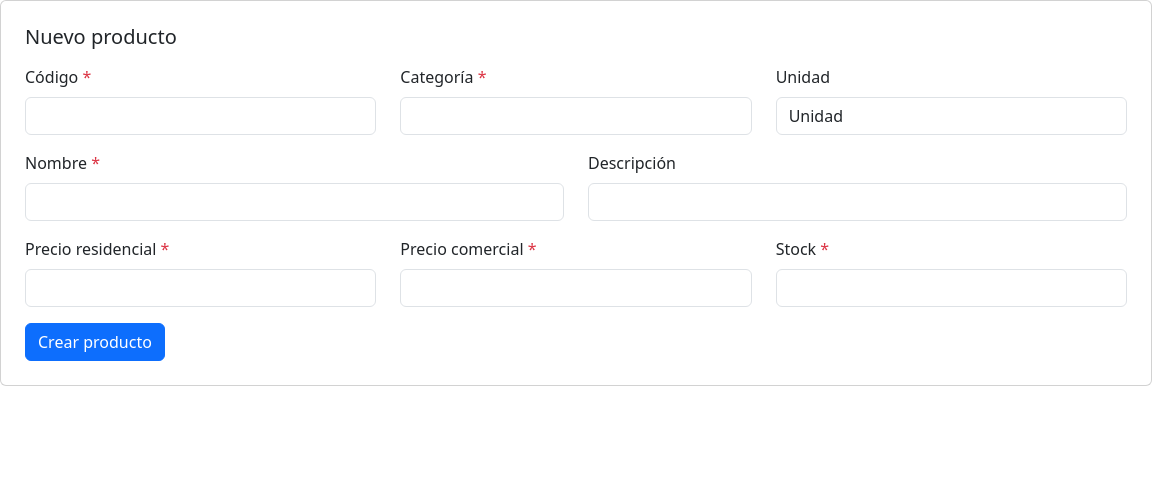
FormularioProducto › valida los campos obligatorios antes de crear un producto nuevo
Check: the heading "Nuevo producto" is shown, box [25, 23, 177, 50]
Click the button "Crear producto" at [95, 342], box [25, 323, 165, 361]
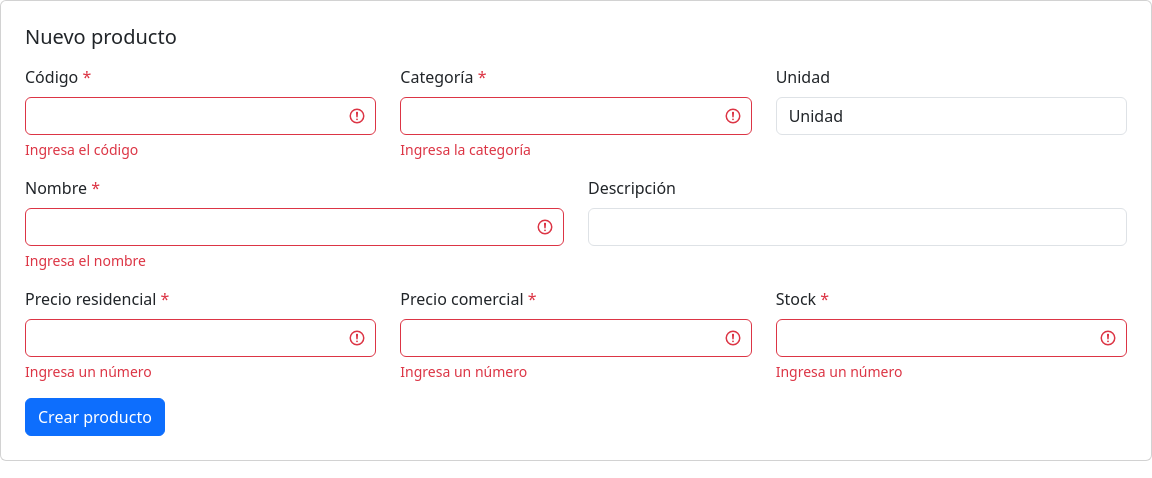
Check: the text "Ingresa el código" is shown, box [25, 140, 138, 159]
Check: the text "Ingresa la categoría" is shown, box [400, 140, 531, 159]
Check: the text "Ingresa el nombre" is shown, box [25, 251, 146, 270]
